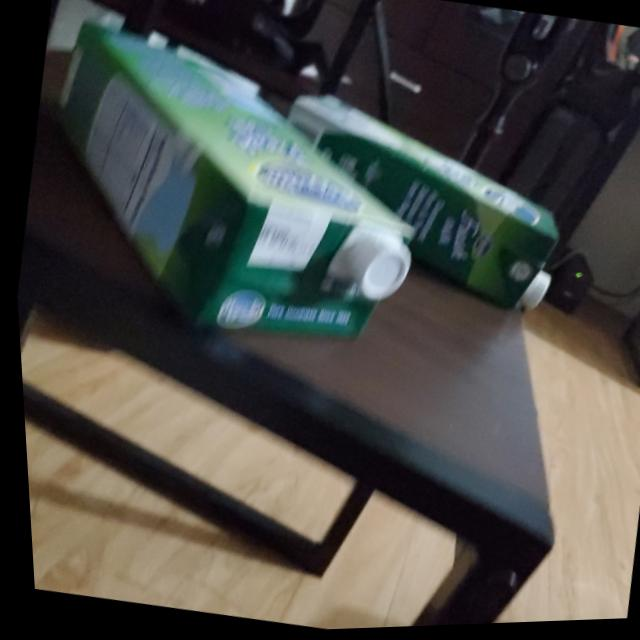milk: (36, 9, 451, 366), (254, 83, 580, 326)
